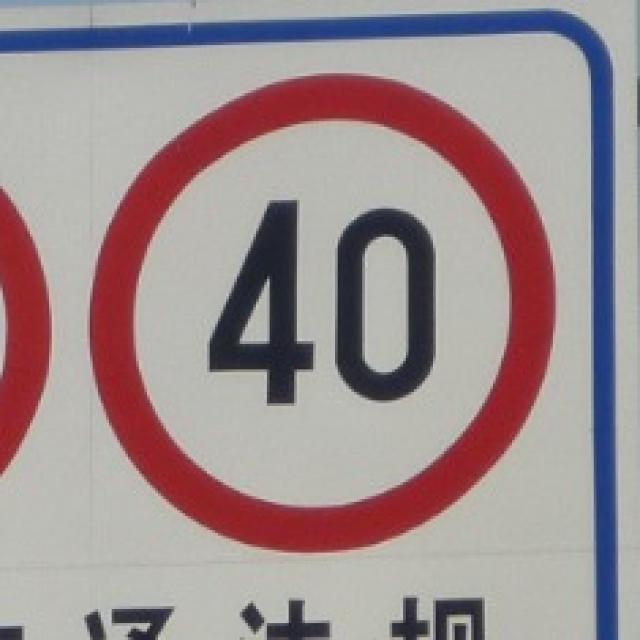Speed Limit -40-: (204, 193, 443, 417)
